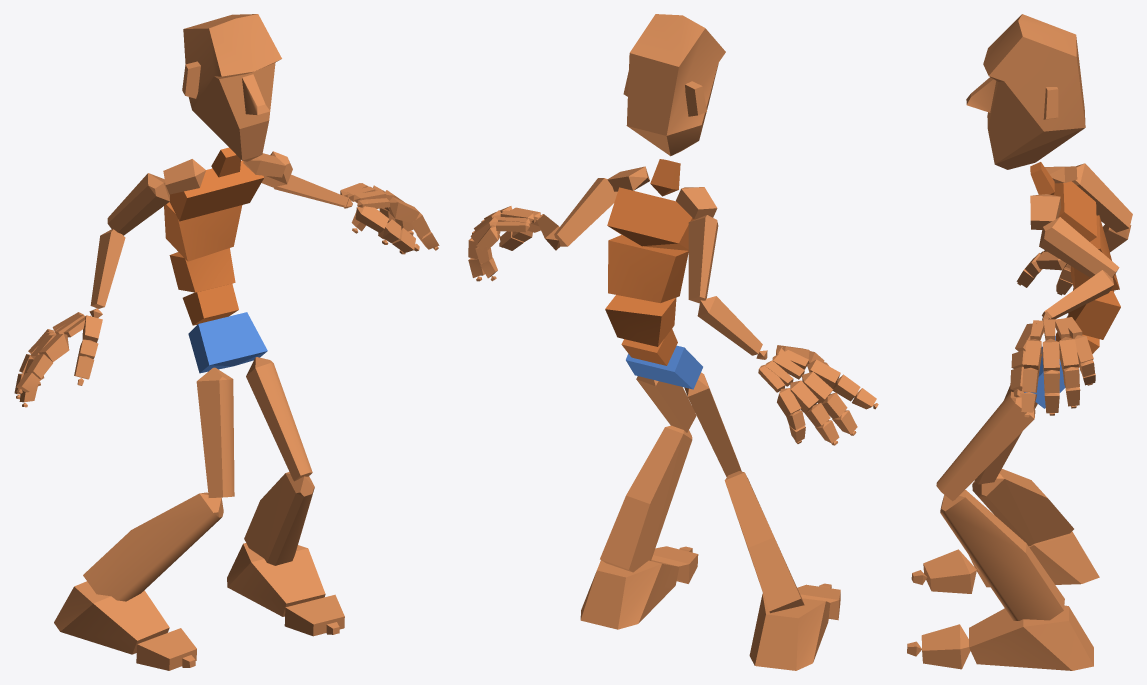
3 renders of one model, left to right at view 1: azimuth 30°, elevation 25°; view 2: azimuth 150°, elevation 25°; view 3: azimuth 270°, elevation 25°, orthographic. The views are drawn at different scales.
Visible parts, largest first — view 1: BOPED_Head, BOPED_R_leg, BOPED_R_foot, BOPED_R_foot01, BOPED_L_leg, BOPED_R_legup, BOPED_L_legup, Bone01, Bone04, Bone05, Bone03, BOPED_R_arm_upper (+8 smaller); view 2: BOPED_Head, BOPED_L_leg, BOPED_R_foot01, BOPED_R_foot, BOPED_R_leg, Bone04, Bone05, Bone03, BOPED_R_arm_upper, BOPED_R_legup, BOPED_L_arm_upper, Bone01 (+8 smaller); view 3: BOPED_Head, BOPED_L_leg, BOPED_R_foot01, BOPED_R_leg, BOPED_L_legup, BOPED_R_foot, BOPED_L_arm_upper, BOPED_R_foot_toe01, BOPED_R_arm_upper, BOPED_R_foot_toe04, Bone05, Bone03 (+15 smaller).
Part boxes in pixels (x1,y1,x2,y2): BOPED_Head: (182,14,281,161); BOPED_R_leg: (83,492,223,601); BOPED_R_foot: (54,581,169,654); BOPED_R_foot01: (227,543,325,616); BOPED_L_leg: (244,472,314,565); BOPED_R_legup: (196,367,234,497); BOPED_L_legup: (246,357,312,481); Bone01: (188,312,267,373); Bone04: (164,202,242,261); Bone05: (170,160,264,221); Bone03: (169,248,235,292); BOPED_R_arm_upper: (107,173,169,235); BOPED_Head: (623,14,725,156); BOPED_L_leg: (600,425,692,572); BOPED_R_foot01: (580,560,679,629); BOPED_R_foot: (749,593,830,670); BOPED_R_leg: (724,471,804,613); Bone04: (608,235,688,303); Bone05: (607,187,695,250); Bone03: (605,295,676,346); BOPED_R_arm_upper: (688,215,718,303); BOPED_R_legup: (684,372,741,476); BOPED_L_arm_upper: (554,178,617,246); Bone01: (626,345,702,389); BOPED_Head: (966,14,1085,169); BOPED_L_leg: (940,490,1064,620); BOPED_R_foot01: (969,605,1093,670); BOPED_R_leg: (972,469,1073,546); BOPED_L_legup: (936,391,1035,501); BOPED_R_foot: (969,531,1099,587); BOPED_L_arm_upper: (1039,217,1119,277); BOPED_R_foot_toe01: (923,549,976,593); BOPED_R_arm_upper: (1072,163,1132,232); BOPED_R_foot_toe04: (921,624,970,669); Bone05: (1053,181,1097,241); Bone03: (1068,288,1120,339).
Bounding box in the file's own units: 130 × 178 × 59.59.
